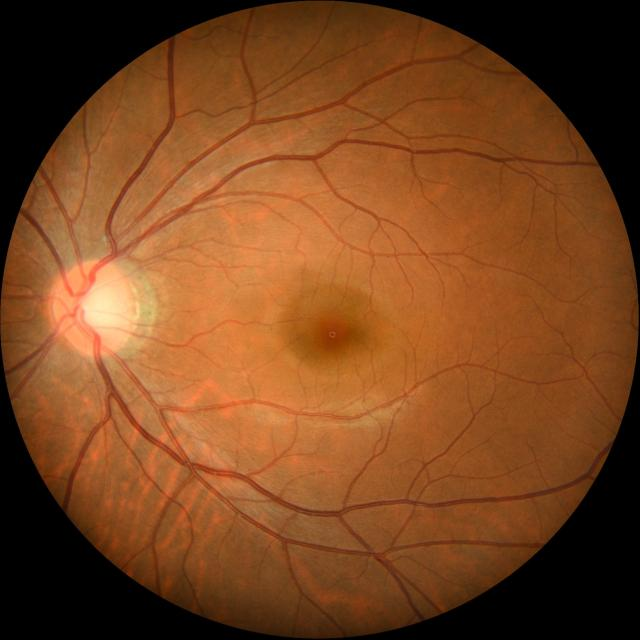OC: (78, 284, 122, 334)
OD: (51, 258, 135, 356)
